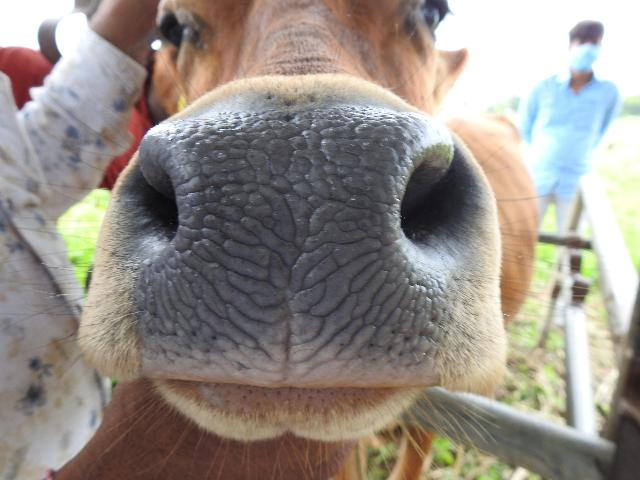Muzzle: (178, 120, 402, 366)
